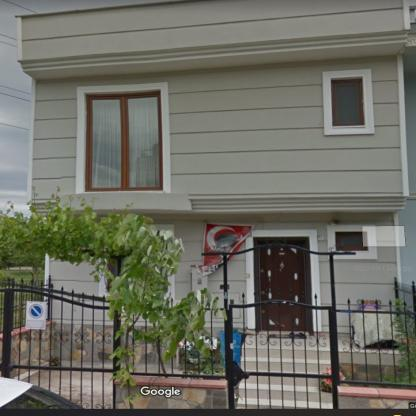door: (254, 238, 312, 330)
window: (84, 90, 160, 191), (331, 75, 365, 125), (335, 232, 368, 250)
